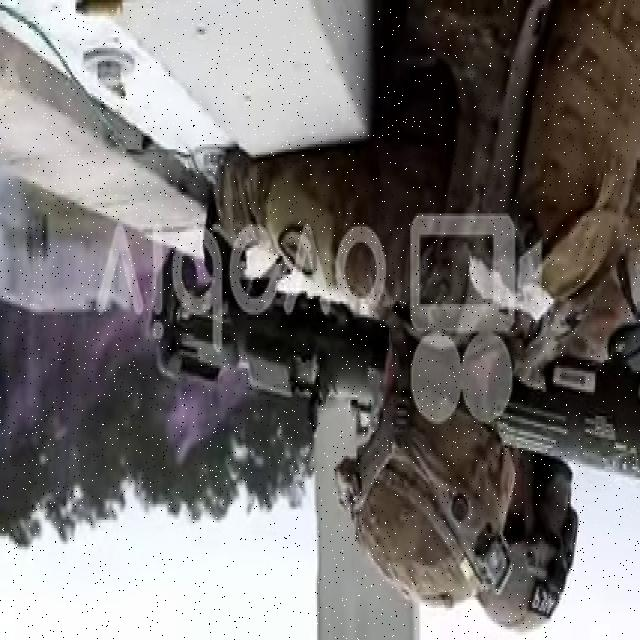bazooka: (160, 237, 640, 501)
